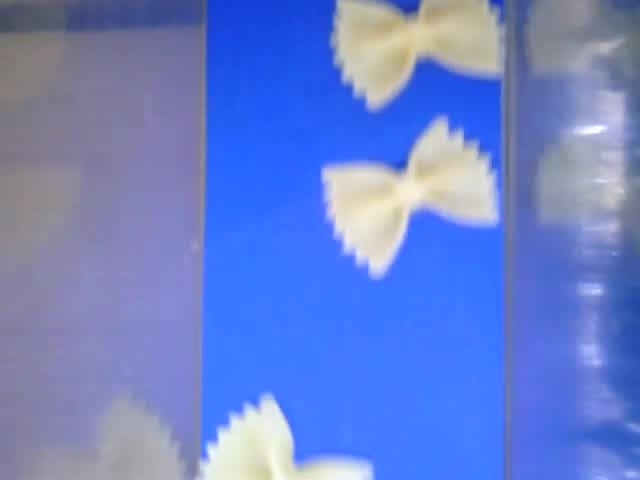farfalle: (318, 114, 500, 283), (327, 1, 502, 115), (198, 391, 376, 480)
